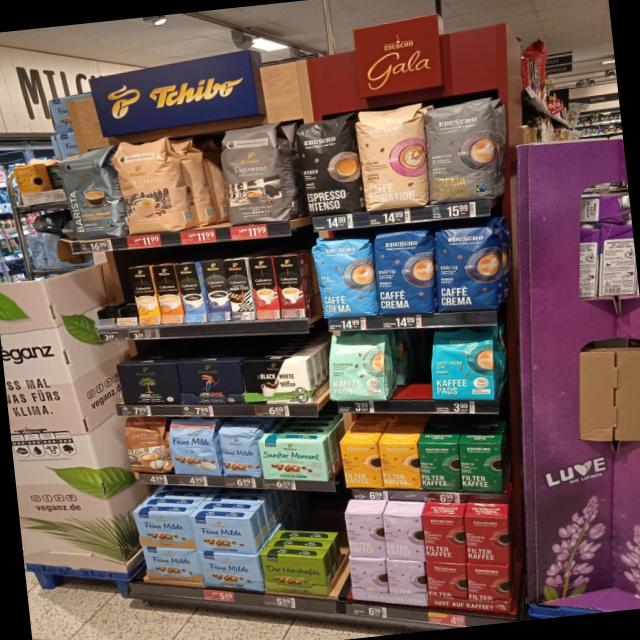BM Gemahlen: (116, 358, 181, 410)
BW Bohne: (240, 352, 314, 410)
Barista CC: (57, 146, 122, 242)
CC Mild: (111, 135, 184, 236)
CC Vollmundig: (123, 411, 172, 477)
Empty Shelf: (105, 268, 137, 317), (86, 266, 115, 318)
Espresso Aromatisch: (218, 122, 291, 228)
FM 36 Pads: (166, 413, 220, 481)
FM Bohne: (216, 419, 262, 479)
FM Gemahlen: (197, 550, 264, 592), (190, 514, 257, 555), (131, 509, 197, 550), (142, 545, 204, 585)
Herzhatfe Mundig: (258, 552, 328, 596)
LG Gemahlen: (176, 354, 246, 409)
SM Gemahlen: (256, 432, 331, 488)
Simo CCMild bigpack: (127, 265, 162, 324)
Simo CCVollmundig bigpack: (151, 263, 185, 323)
Simo Es Brazil: (248, 256, 280, 319)
Simo Es Caramel: (274, 254, 306, 318)
Simo Es Elegant: (223, 258, 255, 320)
Simo Es Kraft: (201, 258, 232, 319)
Simo Es Vanilla: (174, 262, 207, 322)
